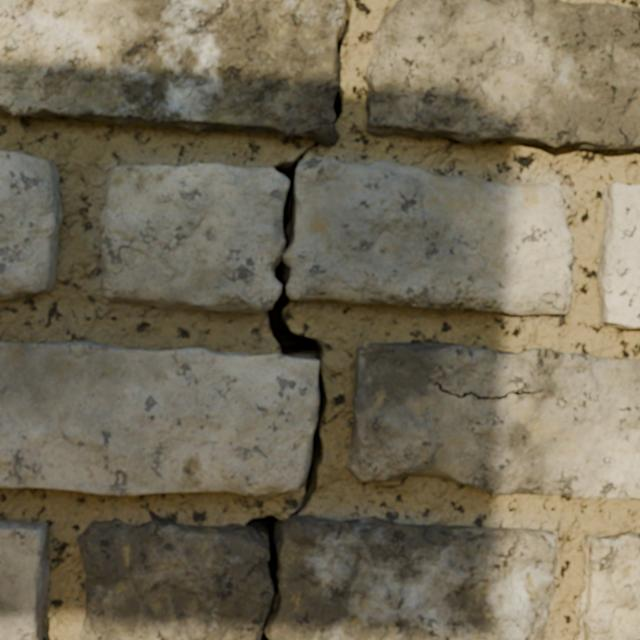broken_brick: (286, 157, 573, 315), (271, 515, 557, 639), (100, 163, 289, 313), (79, 517, 272, 639)
crack: (0, 0, 353, 515), (348, 343, 639, 500), (365, 0, 639, 153), (0, 151, 62, 300), (573, 532, 639, 639), (597, 183, 639, 329), (0, 519, 49, 639), (245, 514, 283, 639), (322, 295, 338, 296)
